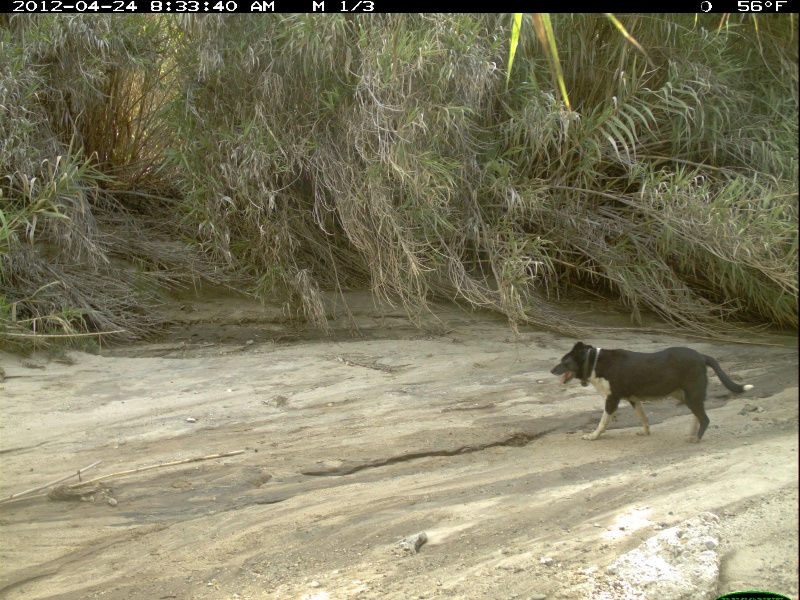dog: (552, 337, 754, 447)
